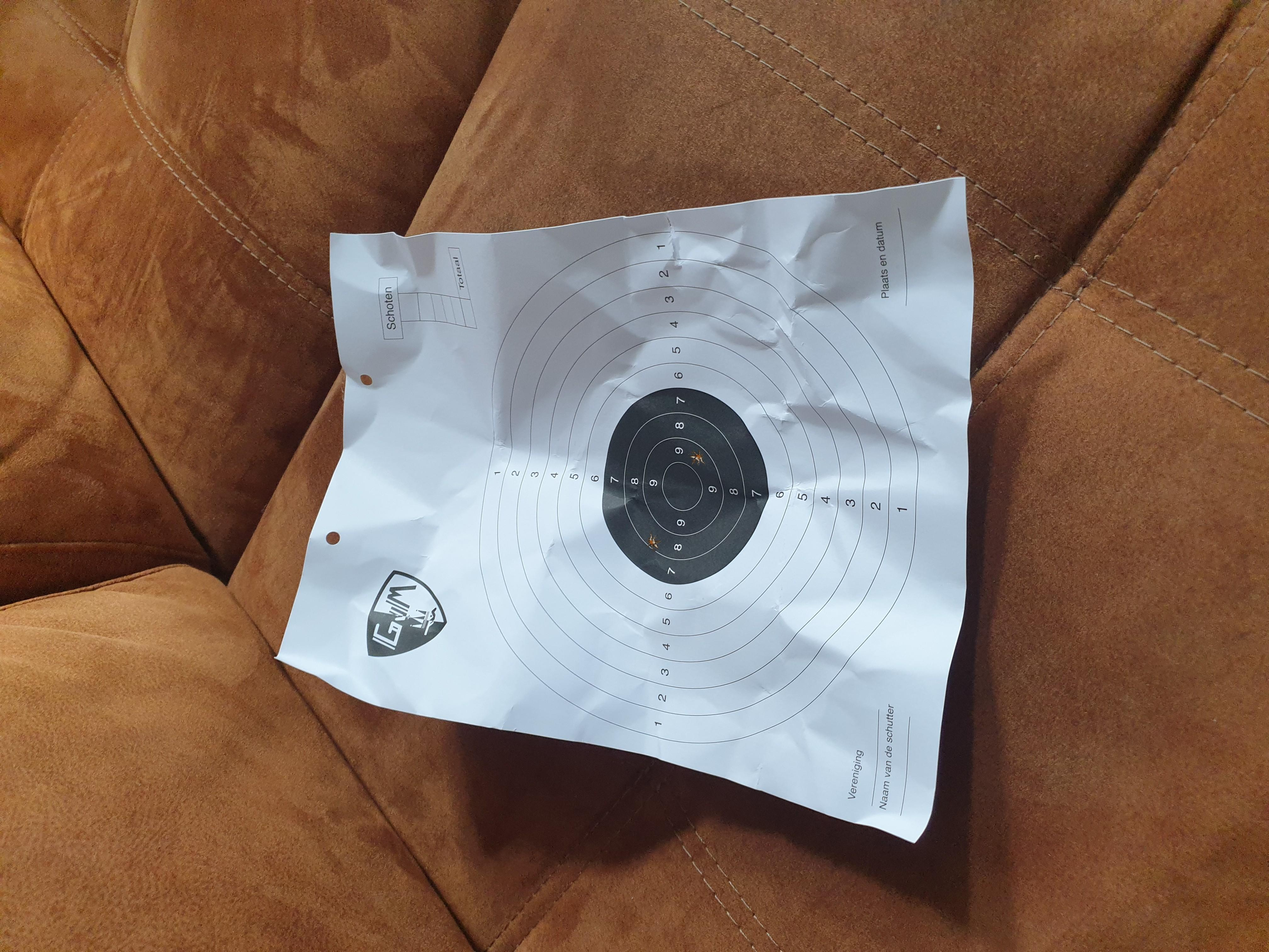hole: (645, 532, 661, 551), (689, 450, 705, 465)
